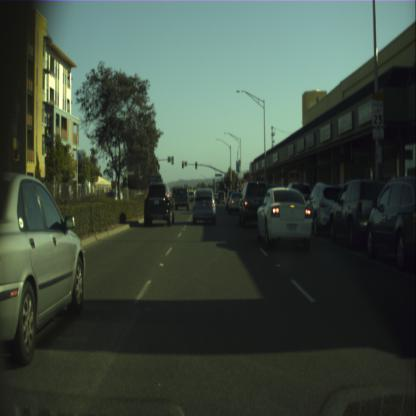Green: (194, 160, 198, 168)
RedLeft: (182, 160, 184, 168)
